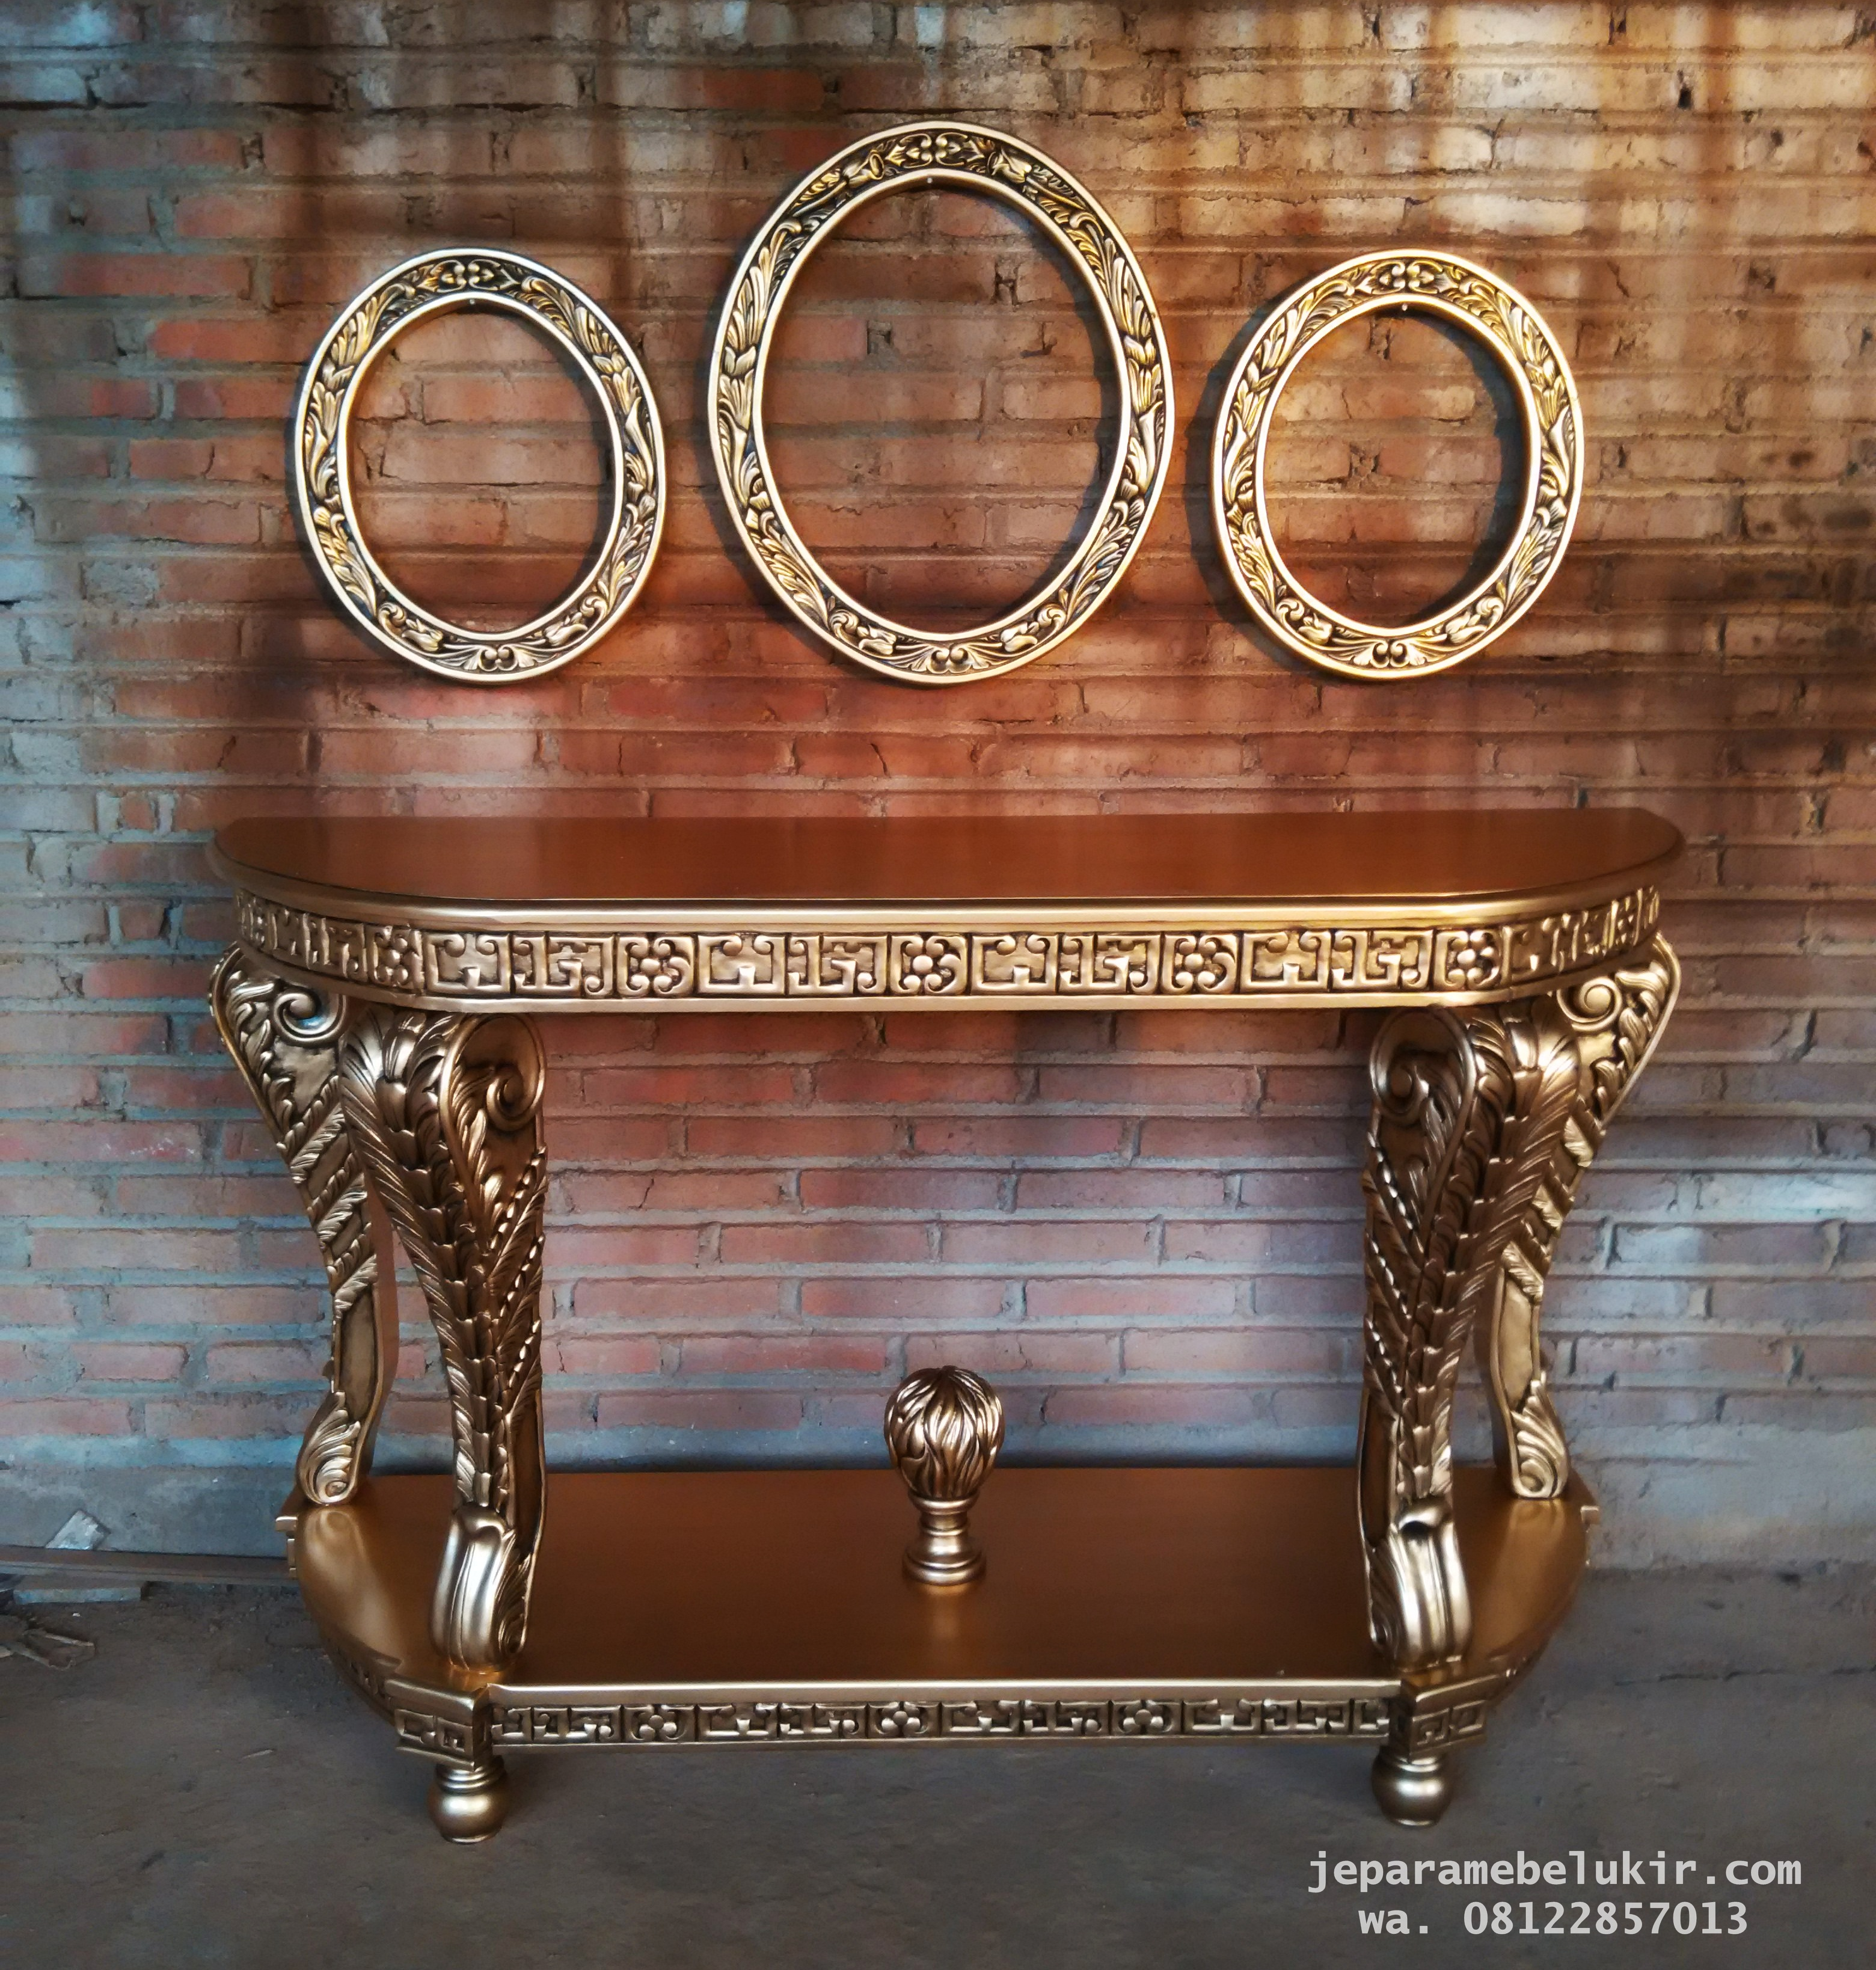Carving Table: (199, 777, 1677, 1893)
